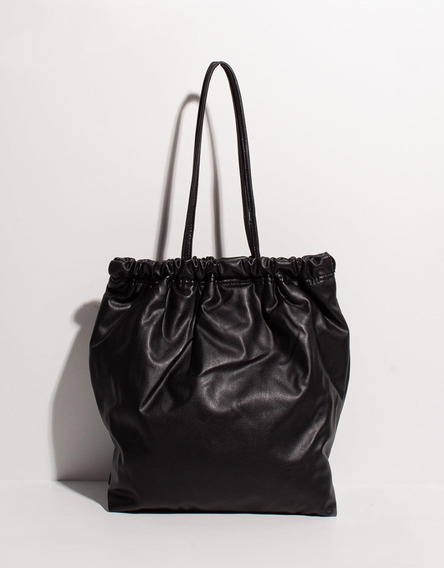cartera: (90, 59, 351, 520)
